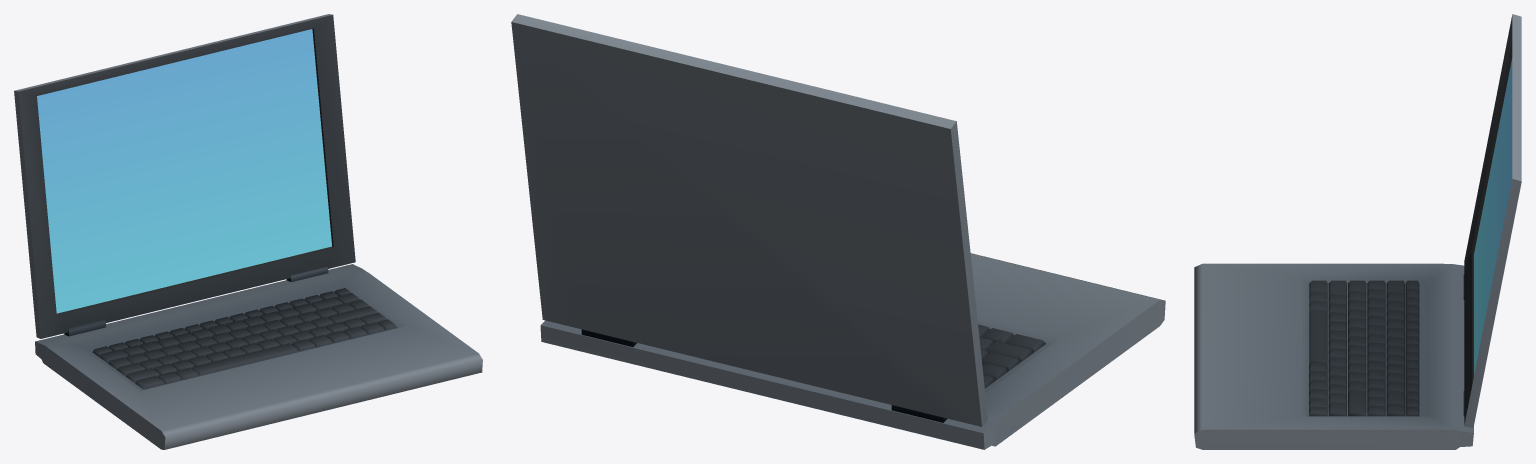
Rendered from human-electronics-laptop_v1.glb.
3 renders of one model, left to right at view 1: azimuth 30°, elevation 25°; view 2: azimuth 150°, elevation 25°; view 3: azimuth 270°, elevation 25°, orthographic. The views are drawn at different scales.
Visible parts, largest first — view 1: Laptop.001, Laptop; view 2: Laptop.001; view 3: Laptop.001, Laptop.
Part boxes in pixels (left/top/right/bottom): Laptop.001: left=14, top=14, right=482, bottom=449; Laptop: left=37, top=29, right=331, bottom=313; Laptop.001: left=511, top=14, right=1165, bottom=449; Laptop.001: left=1194, top=14, right=1521, bottom=449; Laptop: left=1474, top=58, right=1512, bottom=374.
Bounding box in the file's own units: 0.35 × 0.2656 × 0.2915.
